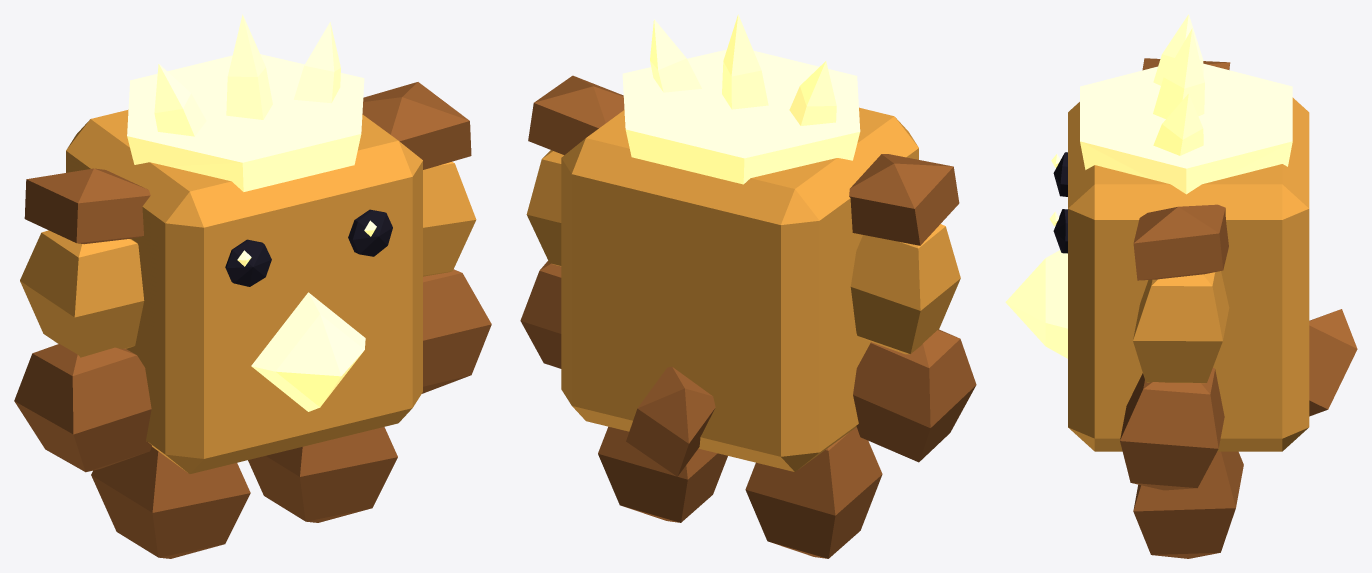
The model's file is SolarGolem.fbx.
3 views of the same model, side by side, from view 1: azimuth 30°, elevation 25°; view 2: azimuth 150°, elevation 25°; view 3: azimuth 270°, elevation 25° (orthographic). The views are drawn at different scales.
Parts seen in each view (by area): view 1: Body, Secondary, Accent, Eyes; view 2: Body, Secondary, Accent; view 3: Body, Secondary, Accent, Eyes.
Boxes of the visible parts, <box> form: Body: <box>20,109,476,473</box>; Secondary: <box>14,82,491,558</box>; Accent: <box>127,14,376,411</box>; Eyes: <box>225,209,392,286</box>; Body: <box>526,107,960,471</box>; Secondary: <box>520,75,976,558</box>; Accent: <box>622,14,860,184</box>; Body: <box>1068,97,1309,451</box>; Secondary: <box>1120,58,1357,558</box>; Accent: <box>1005,14,1292,358</box>; Eyes: <box>1053,152,1067,253</box>.
Bounding box in the file's own units: 4.12 × 4.91 × 3.15.
